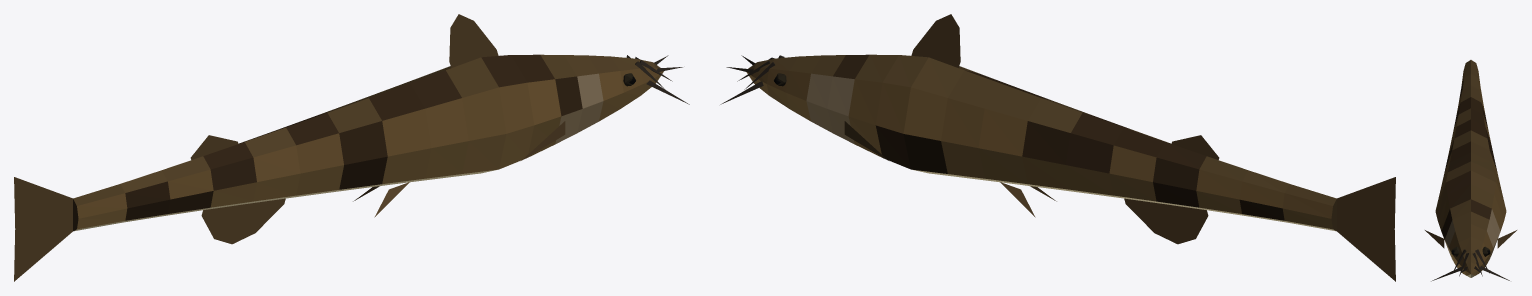
The model's file is brown-bullhead.glb.
The picture shows the model from 3 angles, left to right: view 1: azimuth 30°, elevation 25°; view 2: azimuth 150°, elevation 25°; view 3: azimuth 270°, elevation 25°; orthographic projection. The views are drawn at different scales.
Visible parts, largest first — view 1: brown-bullhead; view 2: brown-bullhead; view 3: brown-bullhead.
Part boxes in pixels (<box>): brown-bullhead: <box>14,14,689,281</box>; brown-bullhead: <box>720,14,1395,281</box>; brown-bullhead: <box>1425,60,1516,281</box>.
Bounding box in the file's own units: 1.12 × 0.283 × 0.1955.
